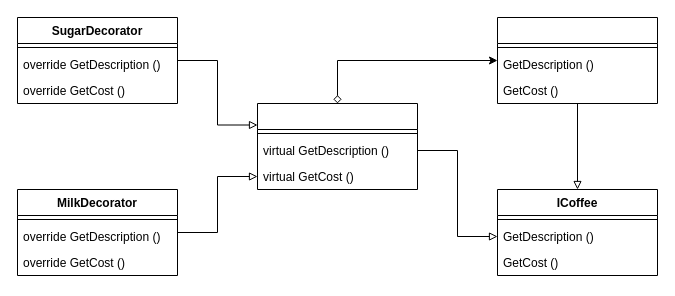
Some shapes in this 675 by 296 pixel diagram are drawn without their labels. Each missing label, with the box of its shape:
CoffeeDecorator: (256, 102, 418, 190)
SimpleCoffee: (496, 16, 658, 104)
